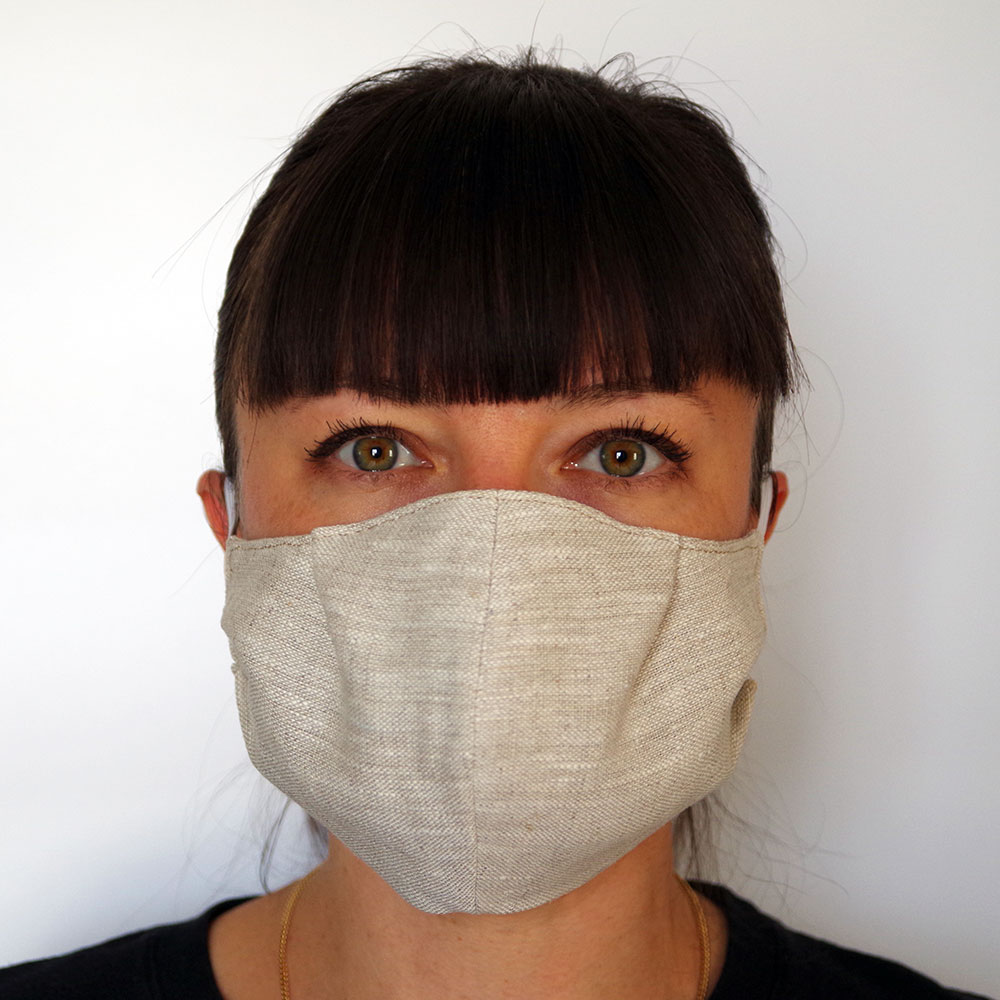with_mask: (221, 211, 776, 892)
